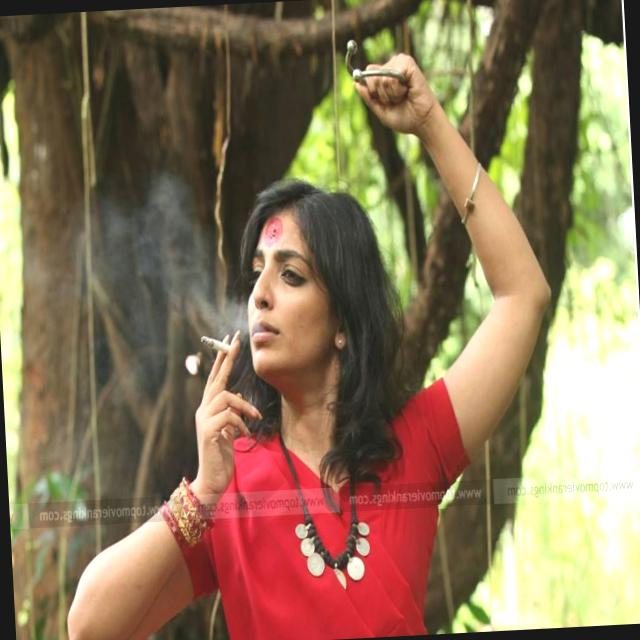smoke: (182, 324, 246, 359)
